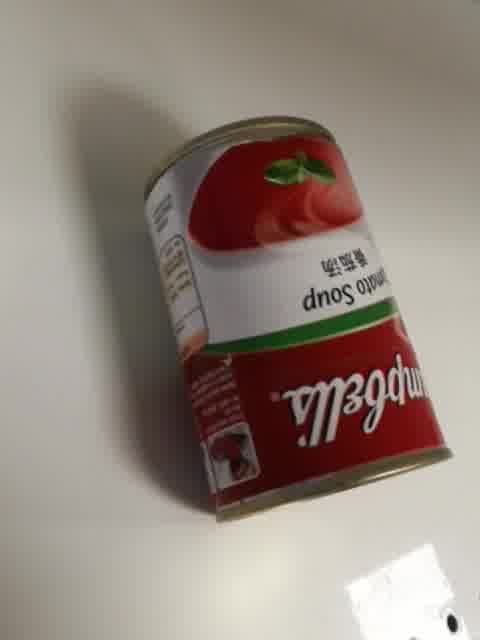tomatosoup: (139, 112, 458, 526)
